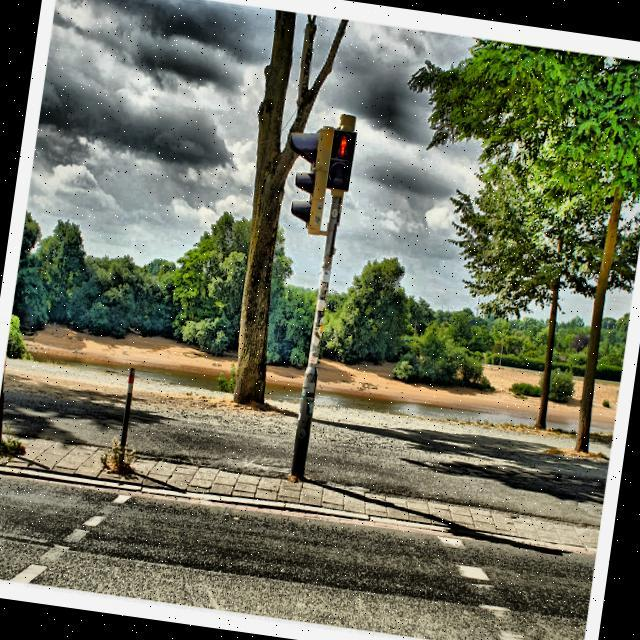red_light: (338, 134, 350, 158)
